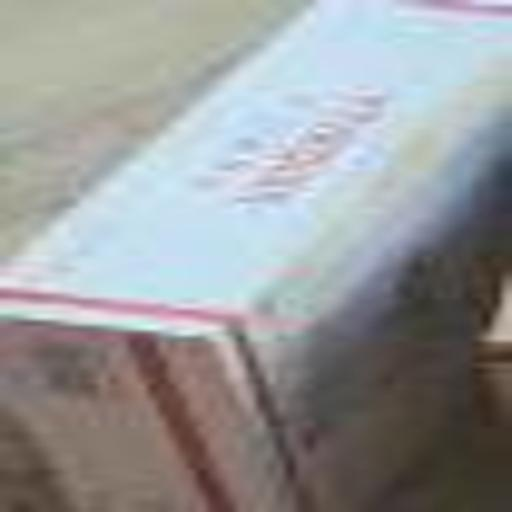Other: (12, 17, 499, 508)
